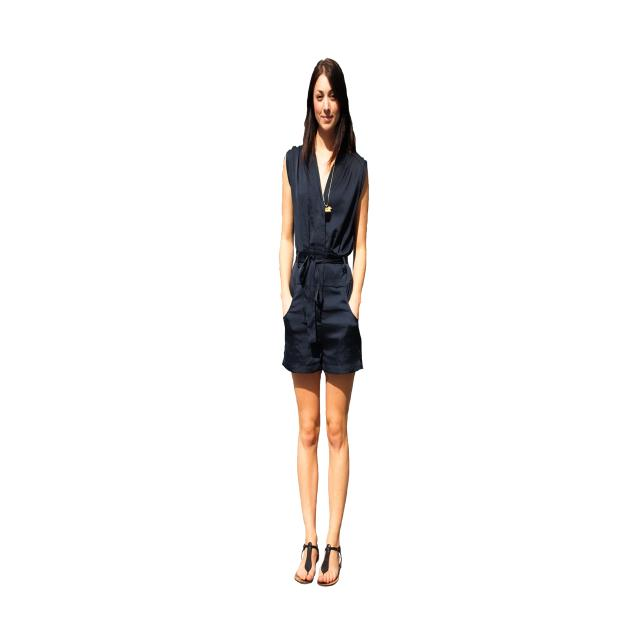jovem: (262, 57, 385, 581)
